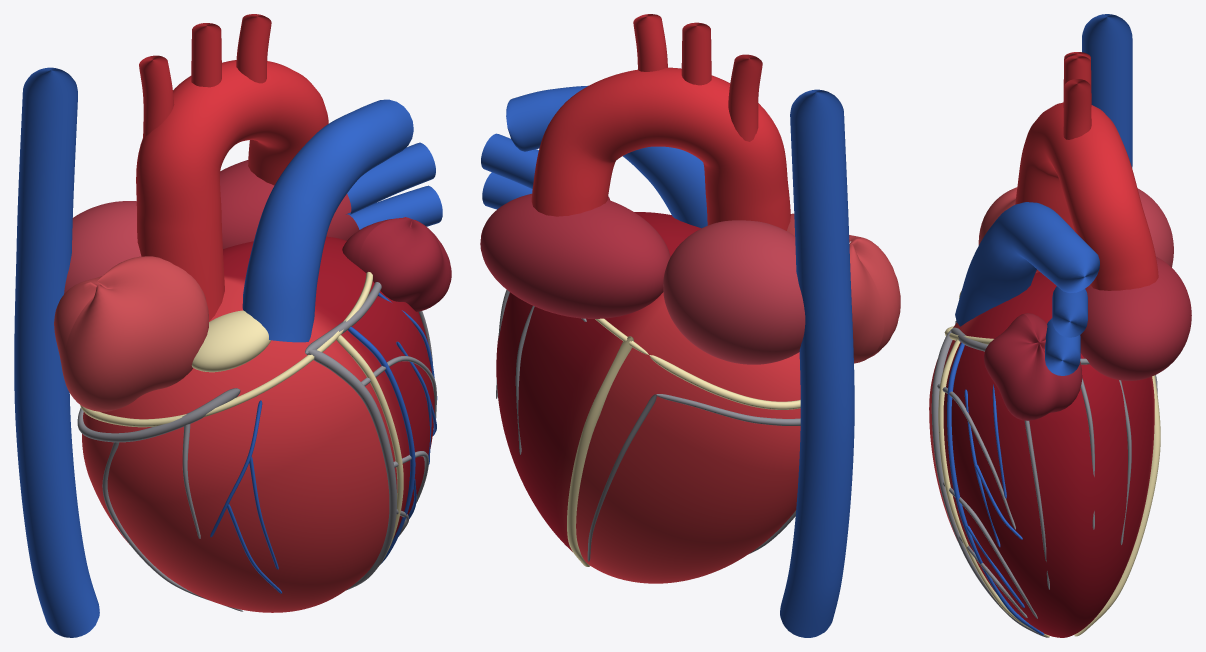
Rendered from heart.glb.
3 renders of one model, left to right at view 1: azimuth 30°, elevation 25°; view 2: azimuth 150°, elevation 25°; view 3: azimuth 270°, elevation 25°, orthographic. The views are drawn at different scales.
Parts seen in each view (by area): view 1: Ventricle_Muscle, Vena_Cava, Aorta, Right_Atrium, Pulmonary_Trunk, Left_Atrial_Appendage, Right_Atrium_Back, Left_Atrium, LAD, RCA, Fat_patch, Pulmonary_Vein_1 (+9 smaller); view 2: Ventricle_Muscle, Vena_Cava, Aorta, Left_Atrium, Right_Atrium_Back, Pulmonary_Trunk, Right_Atrium, IV_groove_back_fat, Aortic_branch_1, RCA, Pulmonary_Vein_1, Aortic_branch_2 (+4 smaller); view 3: Ventricle_Muscle, Aorta, Pulmonary_Trunk, Left_Atrium, Left_Atrial_Appendage, Vena_Cava, LAD, LCX, IV_groove_back_fat, IV_groove_front_fat, Aortic_branch_3, Pulmonary_Vein_1 (+7 smaller).
Part boxes in pixels (x1=…): Ventricle_Muscle: x1=82, y1=236, x2=434, y2=612; Vena_Cava: x1=14, y1=67, x2=99, y2=637; Aorta: x1=136, y1=60, x2=328, y2=321; Right_Atrium: x1=54, y1=256, x2=208, y2=411; Pulmonary_Trunk: x1=242, y1=99, x2=413, y2=342; Left_Atrial_Appendage: x1=342, y1=217, x2=451, y2=311; Right_Atrium_Back: x1=64, y1=201, x2=141, y2=293; Left_Atrium: x1=220, y1=160, x2=359, y2=248; LAD: x1=308, y1=349, x2=436, y2=590; RCA: x1=77, y1=388, x2=243, y2=611; Fat_patch: x1=191, y1=310, x2=271, y2=372; Pulmonary_Vein_1: x1=347, y1=142, x2=435, y2=214; Ventricle_Muscle: x1=496, y1=212, x2=800, y2=583; Vena_Cava: x1=780, y1=89, x2=854, y2=637; Aorta: x1=531, y1=67, x2=790, y2=230; Left_Atrium: x1=480, y1=193, x2=670, y2=318; Right_Atrium_Back: x1=663, y1=220, x2=805, y2=364; Pulmonary_Trunk: x1=506, y1=85, x2=707, y2=228; Right_Atrium: x1=787, y1=213, x2=900, y2=363; IV_groove_back_fat: x1=567, y1=336, x2=633, y2=566; Aortic_branch_1: x1=728, y1=54, x2=762, y2=141; RCA: x1=587, y1=394, x2=800, y2=561; Pulmonary_Vein_1: x1=481, y1=133, x2=538, y2=188; Aortic_branch_2: x1=681, y1=22, x2=711, y2=85; Ventricle_Muscle: x1=929, y1=271, x2=1154, y2=637; Aorta: x1=1015, y1=102, x2=1158, y2=290; Pulmonary_Trunk: x1=955, y1=202, x2=1099, y2=326; Left_Atrium: x1=1080, y1=256, x2=1191, y2=380; Left_Atrial_Appendage: x1=983, y1=313, x2=1082, y2=420; Vena_Cava: x1=1082, y1=14, x2=1132, y2=167; LAD: x1=931, y1=329, x2=1048, y2=637; LCX: x1=951, y1=327, x2=1131, y2=589; IV_groove_back_fat: x1=1074, y1=375, x2=1160, y2=636; IV_groove_front_fat: x1=938, y1=339, x2=1049, y2=637; Aortic_branch_3: x1=1063, y1=79, x2=1091, y2=139; Pulmonary_Vein_1: x1=1052, y1=286, x2=1087, y2=337.
Size of what is drawn, in the model's own units: 2.79 by 3.98 by 1.77.
